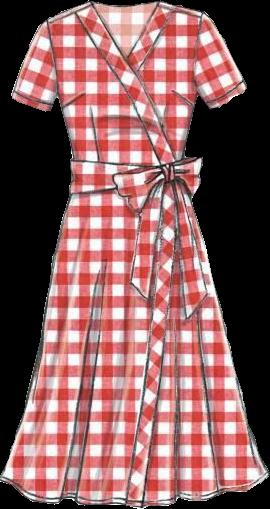Bodice: (46, 1, 204, 166)
Hemline: (0, 469, 269, 508)
Neckline: (89, 0, 162, 64)
Skirt: (0, 162, 268, 508)
Sleeve: (194, 13, 246, 108), (11, 18, 58, 111)
Sleeveline: (45, 19, 62, 100), (191, 11, 207, 95)
Waistline: (70, 157, 183, 170)
